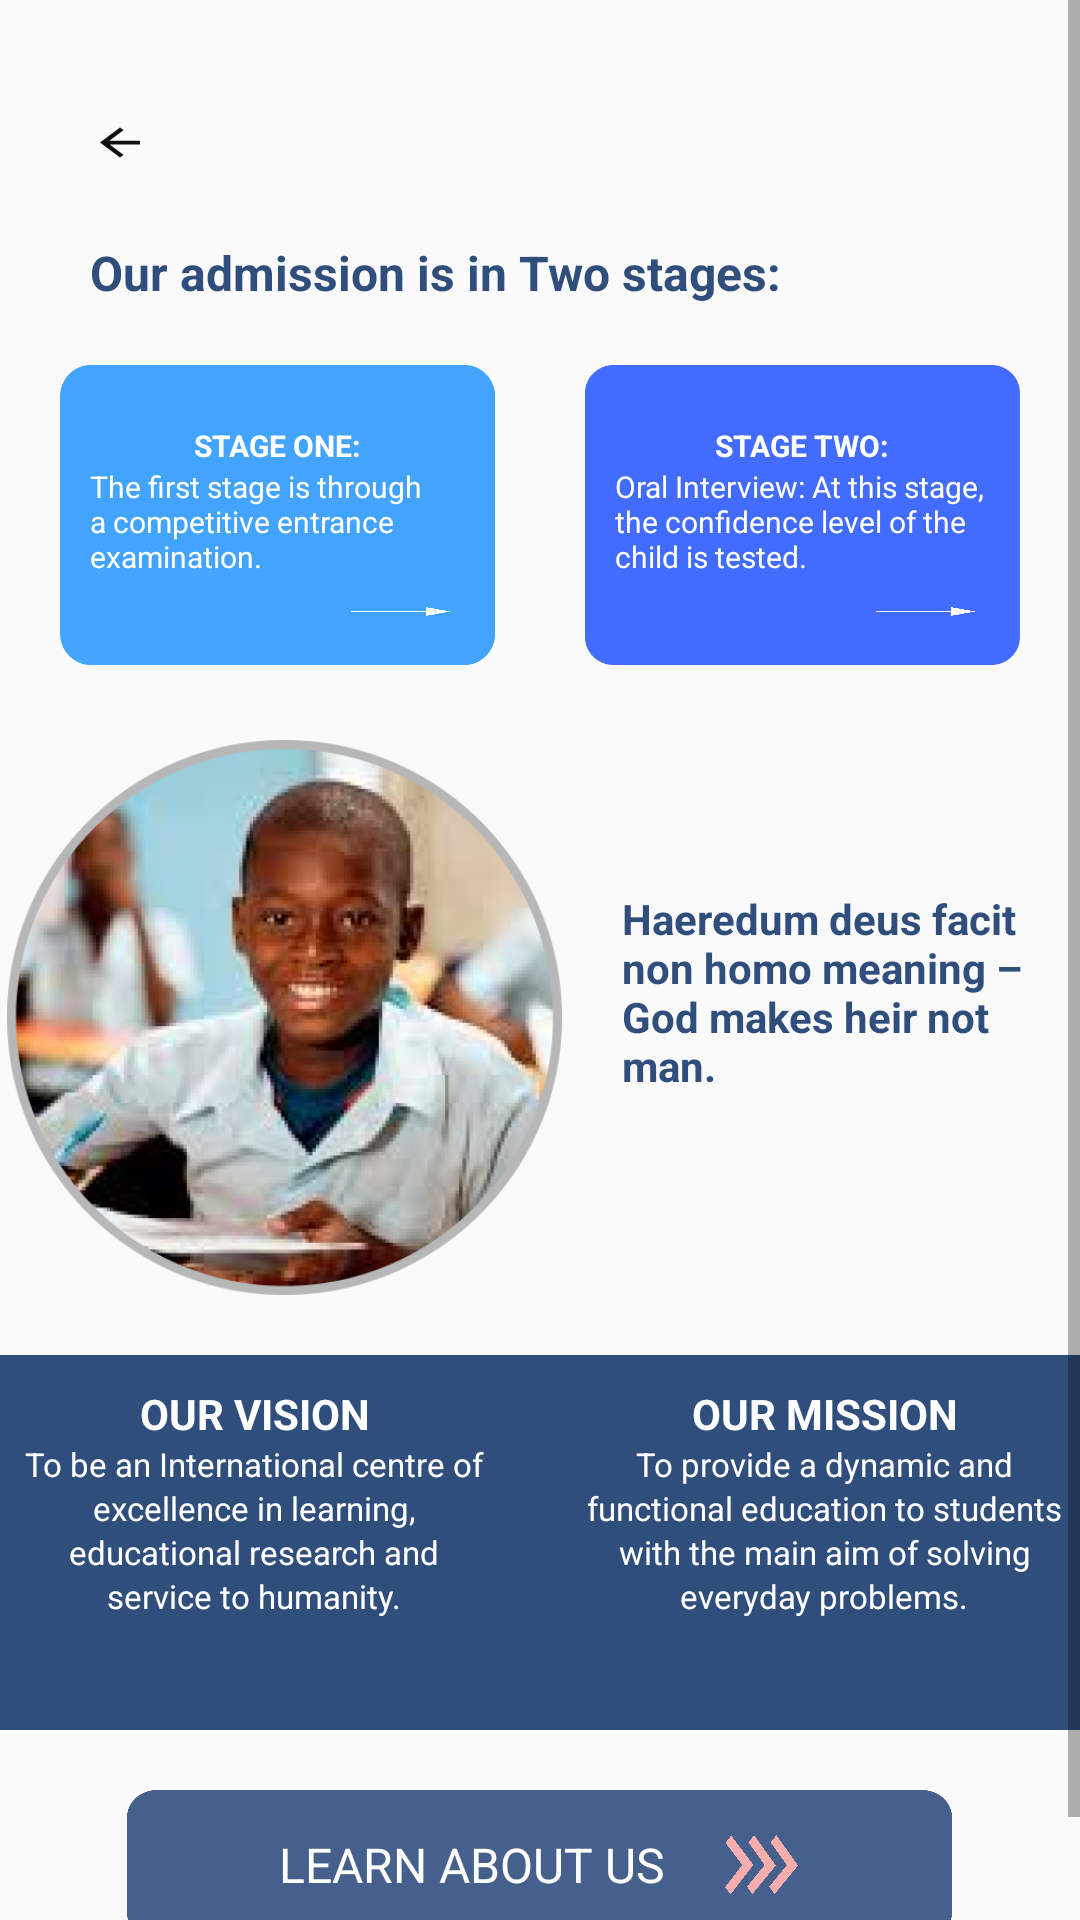

Icons on this 1080w x 1920h Android screen, each with the point to tap as point (x, y):
arrow back: point (120, 142)
